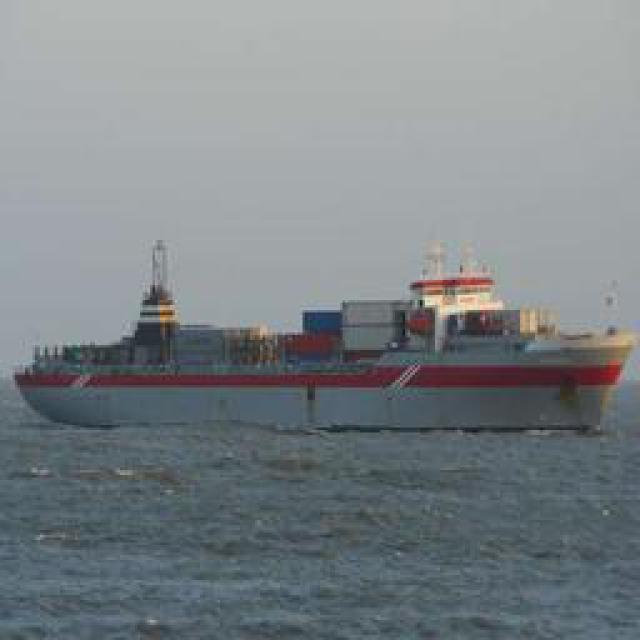Ship: (11, 240, 634, 443)
